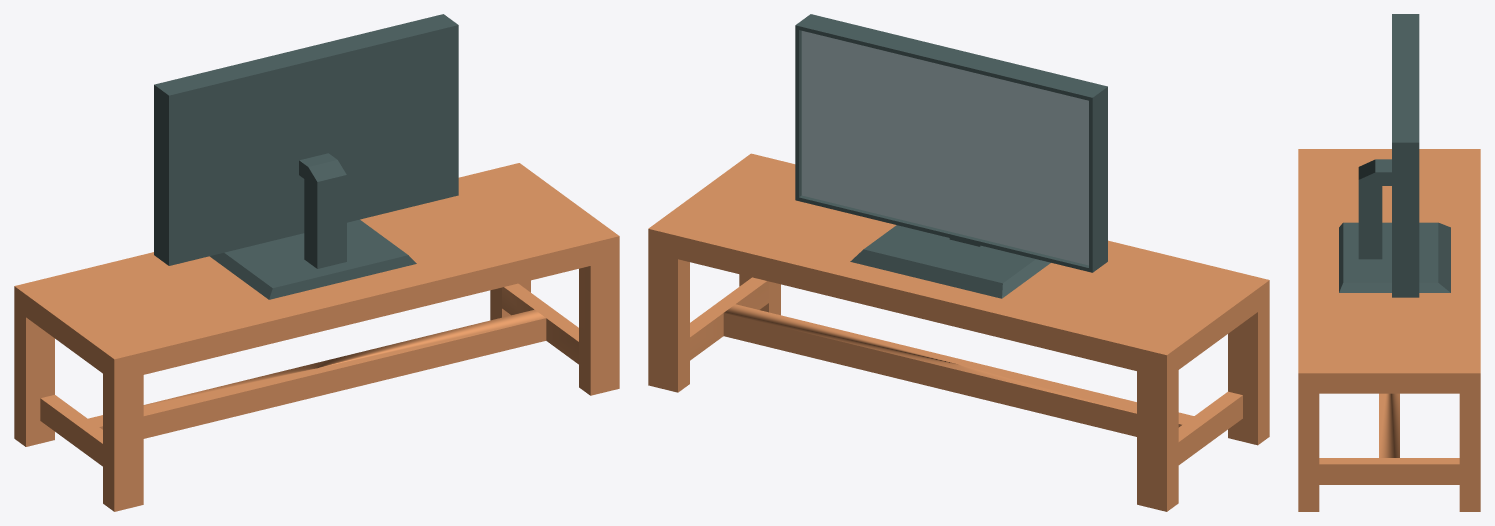
Rendered from tvSetup.obj.
3 views of the same model, side by side, from view 1: azimuth 30°, elevation 25°; view 2: azimuth 150°, elevation 25°; view 3: azimuth 270°, elevation 25° (orthographic). The views are drawn at different scales.
Parts seen in each view (by area): view 1: televisionModern; view 2: televisionModern; view 3: televisionModern.
Boxes of the visible parts, x1,y1,x2,y2 form: televisionModern: (14,14,619,511); televisionModern: (648,14,1269,511); televisionModern: (1298,14,1480,511).
Size of the model in its own units: 4.36 by 2.91 by 1.5.
